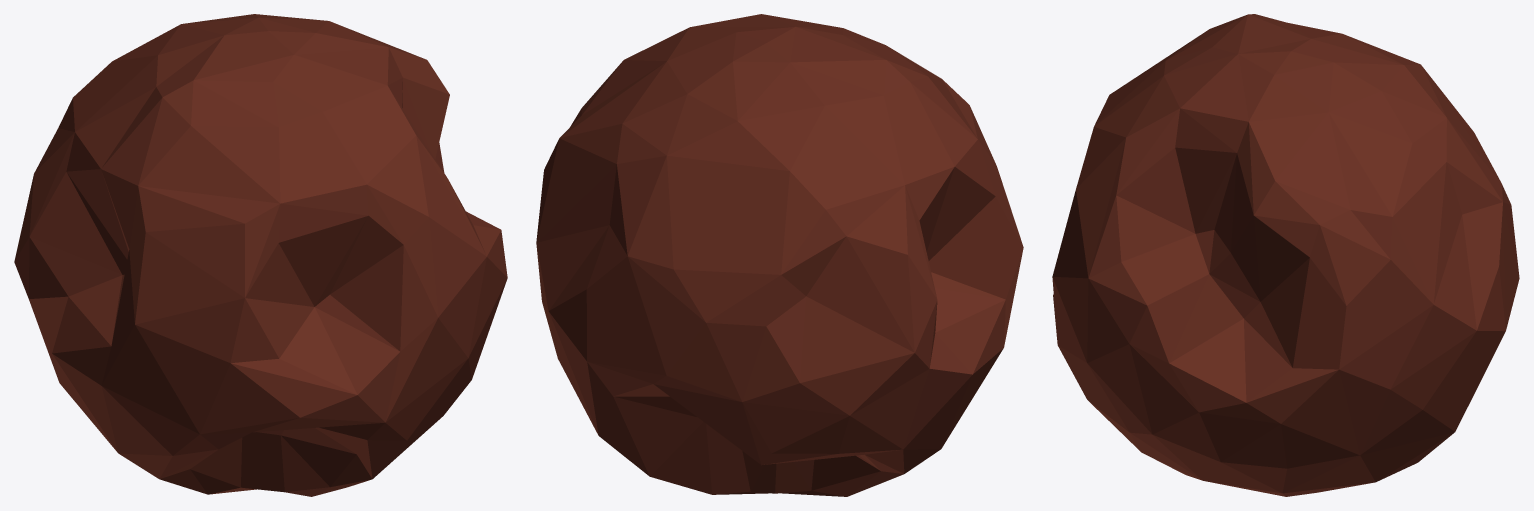
Rendered from meteorito_lowpoly.fbx.
The picture shows the model from 3 angles, left to right: view 1: azimuth 30°, elevation 25°; view 2: azimuth 150°, elevation 25°; view 3: azimuth 270°, elevation 25°; orthographic projection. The views are drawn at different scales.
Visible parts, largest first — view 1: Sphere; view 2: Sphere; view 3: Sphere.
Boxes of the visible parts, <box> form: Sphere: <box>14,14,507,496</box>; Sphere: <box>536,14,1023,496</box>; Sphere: <box>1052,14,1519,496</box>.
Bounding box in the file's own units: 3455 × 3546 × 3508.
